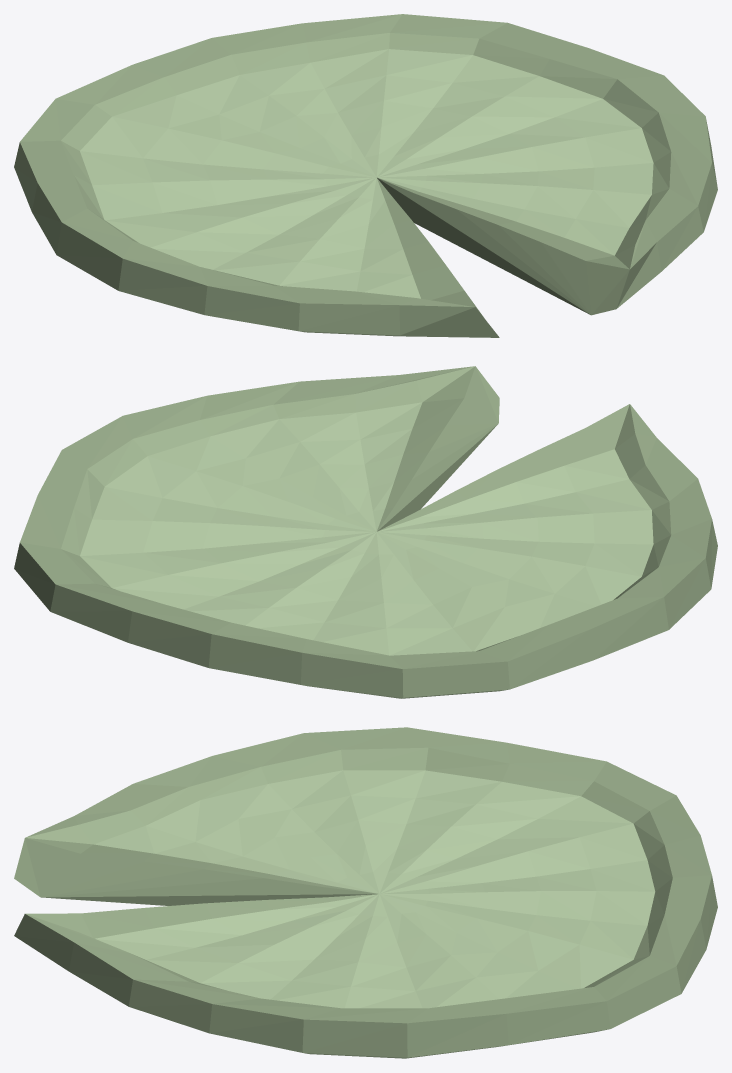
File: lily-pad-86edbb.glb
3 renders of one model, top to bottom at view 1: azimuth 30°, elevation 25°; view 2: azimuth 150°, elevation 25°; view 3: azimuth 270°, elevation 25°, orthographic.
Visible parts, largest first — view 1: lily-pad; view 2: lily-pad; view 3: lily-pad.
Part boxes in pixels (x1,y1,x2,y2): lily-pad: [14, 14, 717, 337]; lily-pad: [14, 366, 717, 698]; lily-pad: [14, 727, 717, 1058].
Bounding box in the file's own units: 0.6 × 0.0418 × 0.593.
